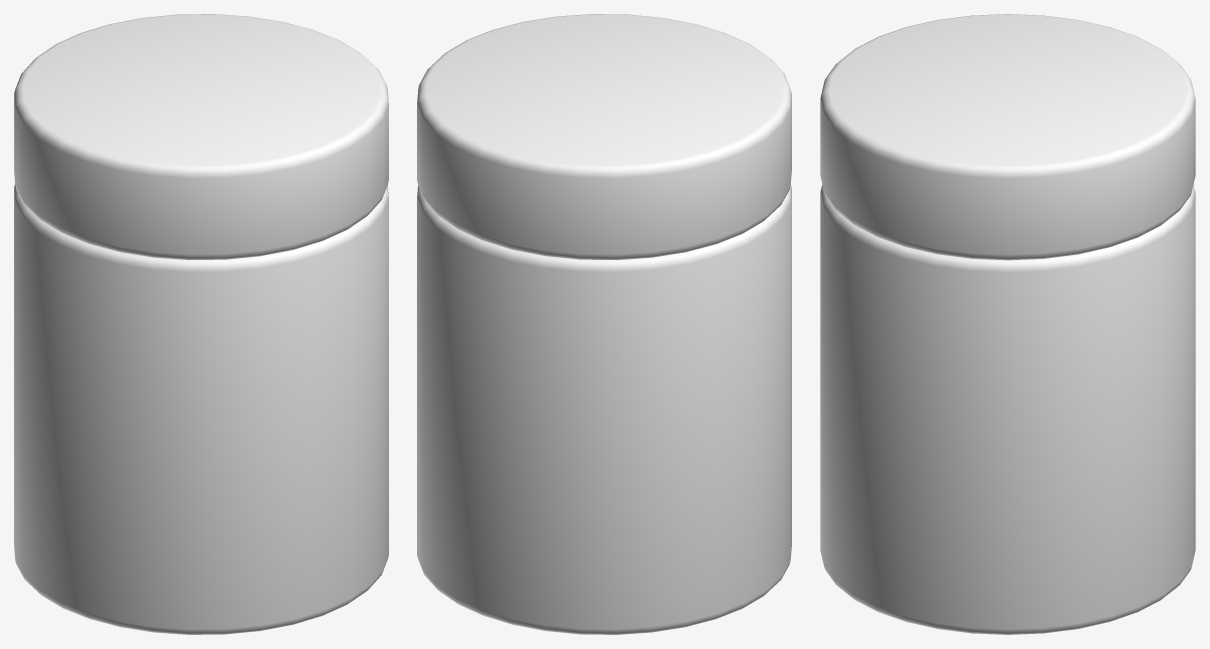
The model's file is Spice jars.fbx.
The picture shows the model from 3 angles, left to right: view 1: azimuth 30°, elevation 25°; view 2: azimuth 150°, elevation 25°; view 3: azimuth 270°, elevation 25°; orthographic projection.
Parts seen in each view (by area): view 1: Spice jars; view 2: Spice jars; view 3: Spice jars.
Part boxes in pixels (box(x1,y1,x2,y2)): Spice jars: box(14, 14, 388, 634); Spice jars: box(417, 14, 791, 634); Spice jars: box(820, 14, 1195, 634).
Size of the model in its own units: 7.82 by 10.76 by 7.82.
1 material, 1 textured.
